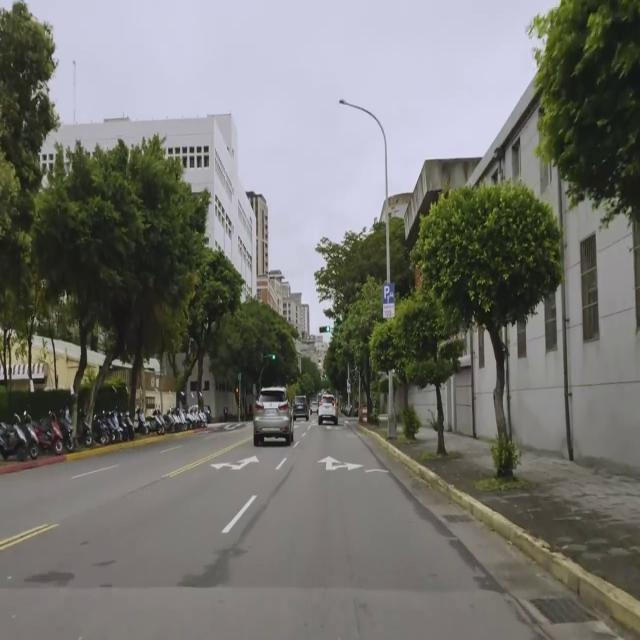green light: (319, 326, 331, 333), (267, 354, 275, 361)
